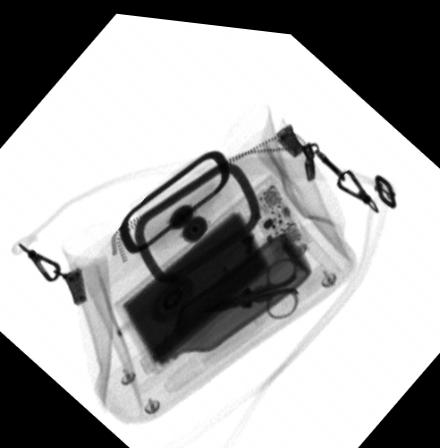Powerbank: (108, 162, 308, 371)
Scissors: (197, 248, 301, 313)
